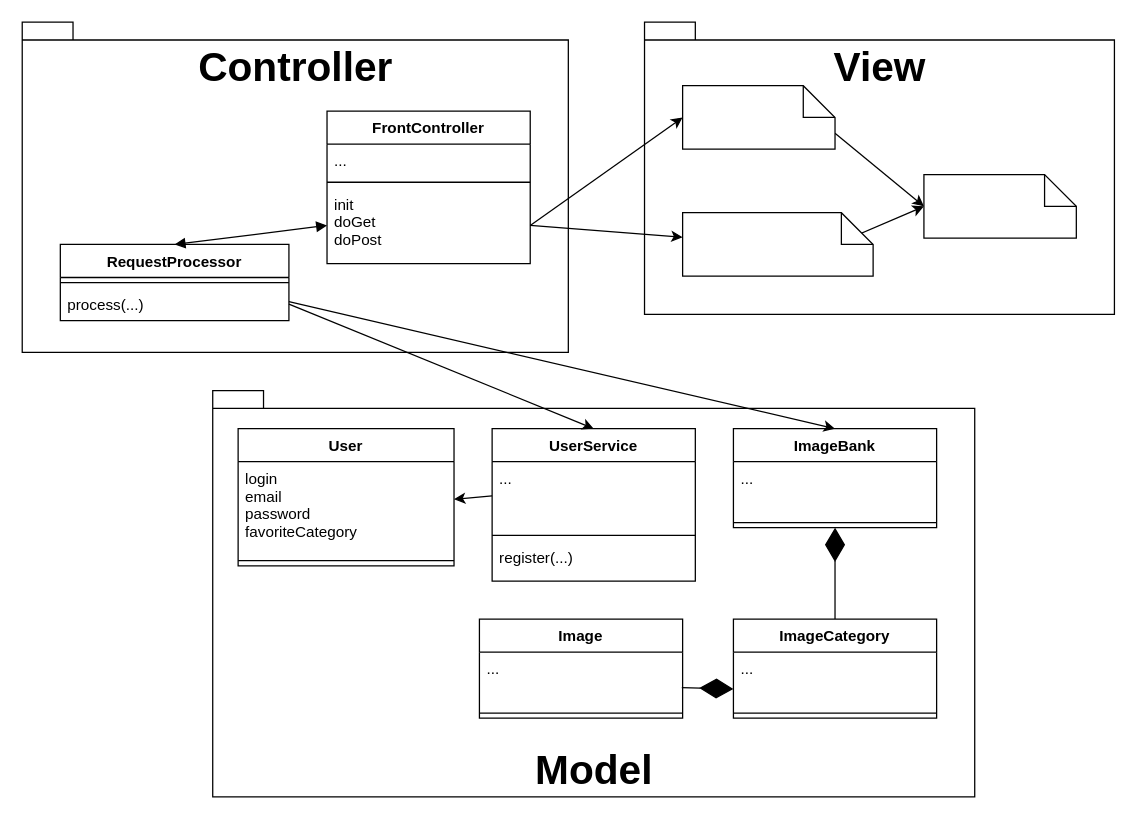
The diagram is 1137 pixels wide and 819 high, and some of its shapes have lost their labels. Here are the shapes that lost their labels. From the top down, the centre of each, then its label:
At point 758,116: "gallery.jsp".
At point 999,205: "style.css".
At point 777,243: "registration.jsp".
